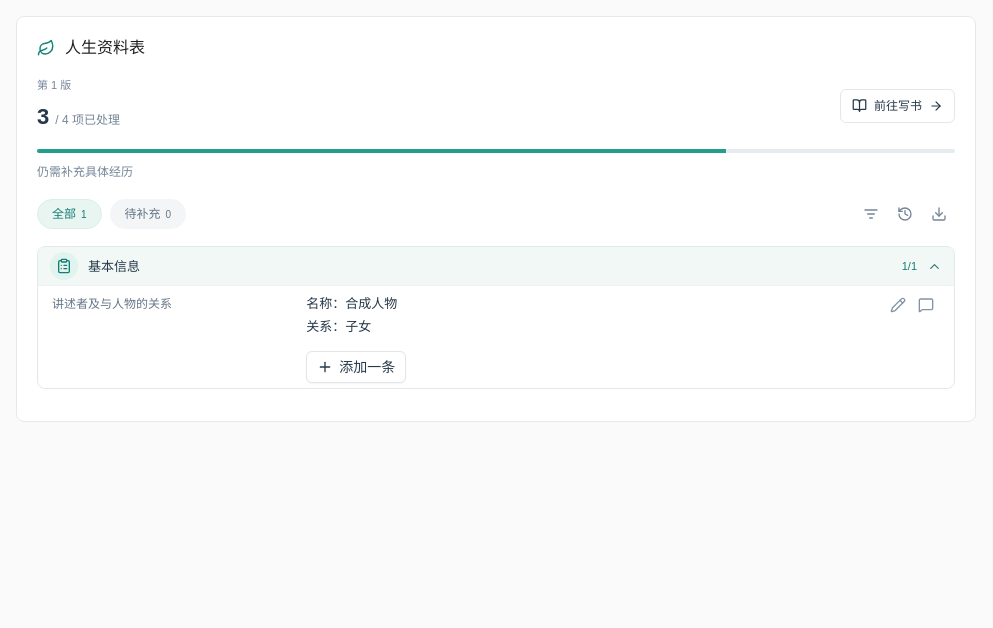
Test: ordinary list additions only ask for content while existing object records keep their own fields
Click the button named "编辑资料" at (898, 305), box [884,291,912,319]
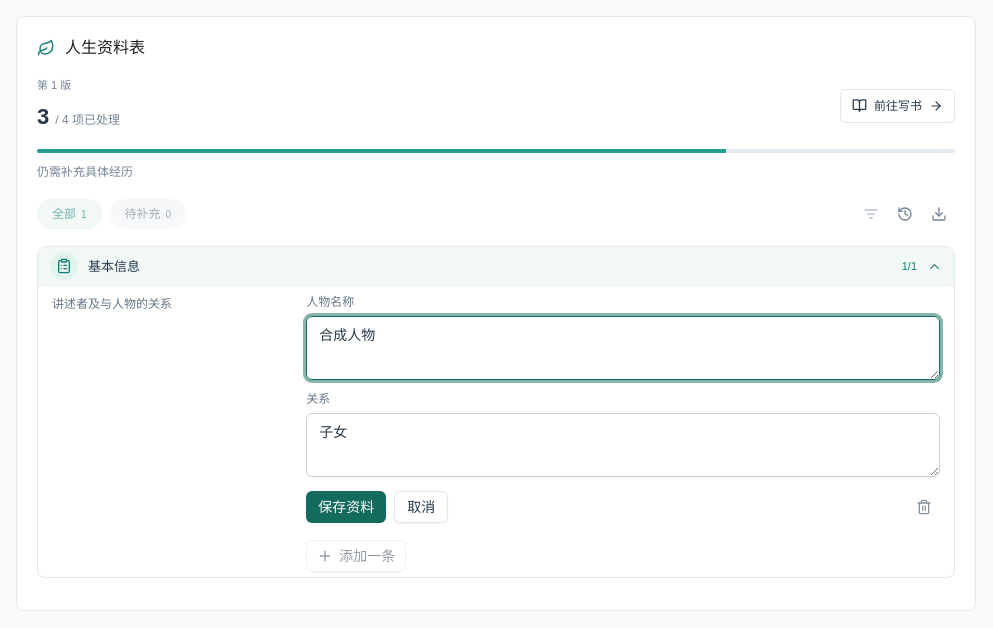
Now the number of text boxes is 2, box [306,316,940,380]; [306,413,940,477]
Now the text box labelled "人物名称" holds "合成人物", box [306,316,940,380]
Click the button "取消" at (421, 507), box [394,491,448,523]
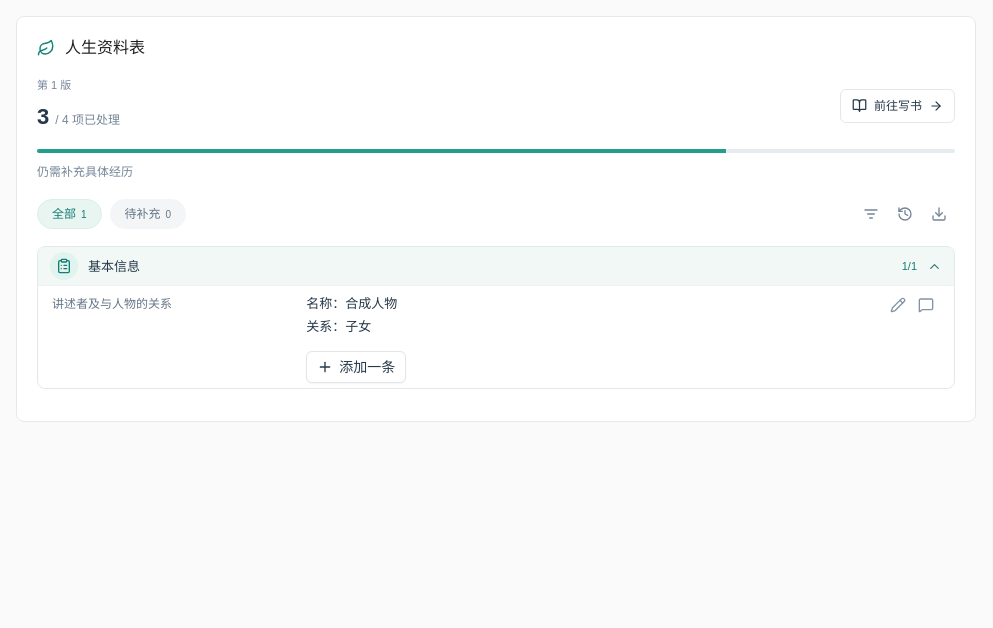
Click the button "添加一条" at (356, 367), box [306,351,406,383]
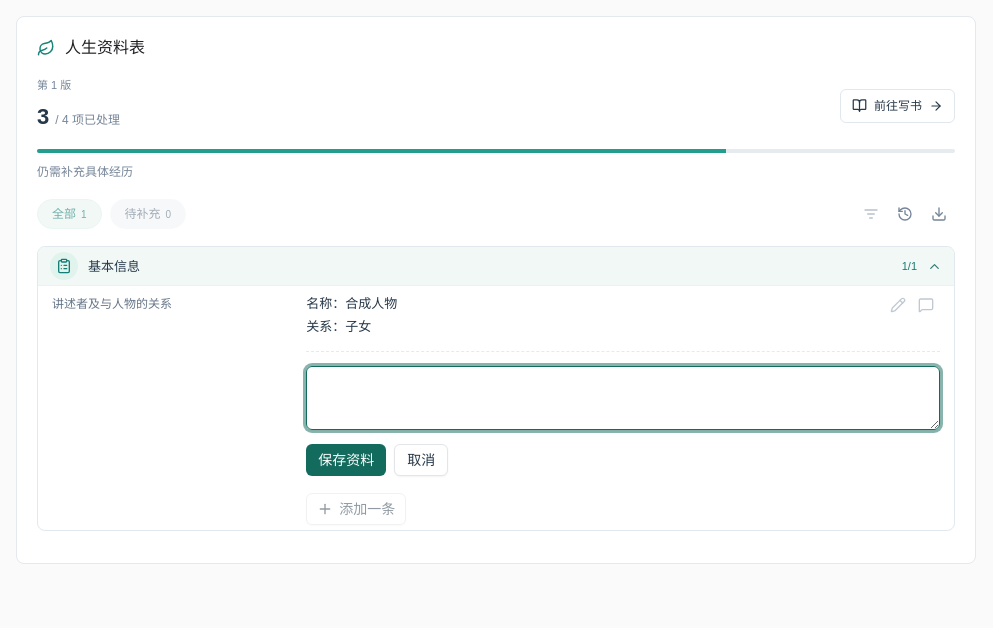
Now the number of text boxes is 1, box [306,366,940,430]
Now the text box is empty, box [306,366,940,430]
